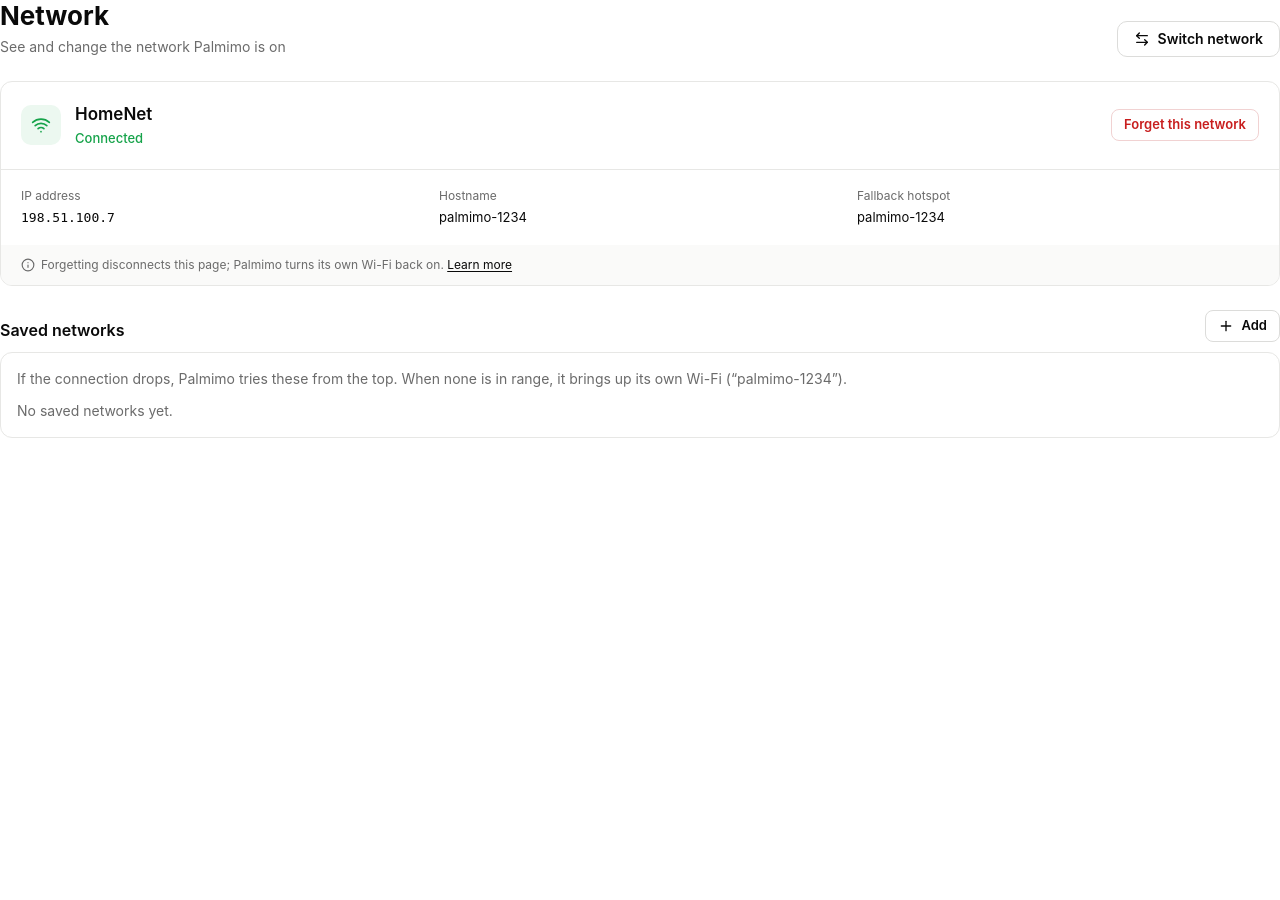
Test case: WifiSettingsPanel › issues no request when the forget dialog is cancelled
What coordinates should you click on to do the following:
click the button "Forget this network"
I would click on:
 (1185, 125)
Its box is [1111,109,1259,141].
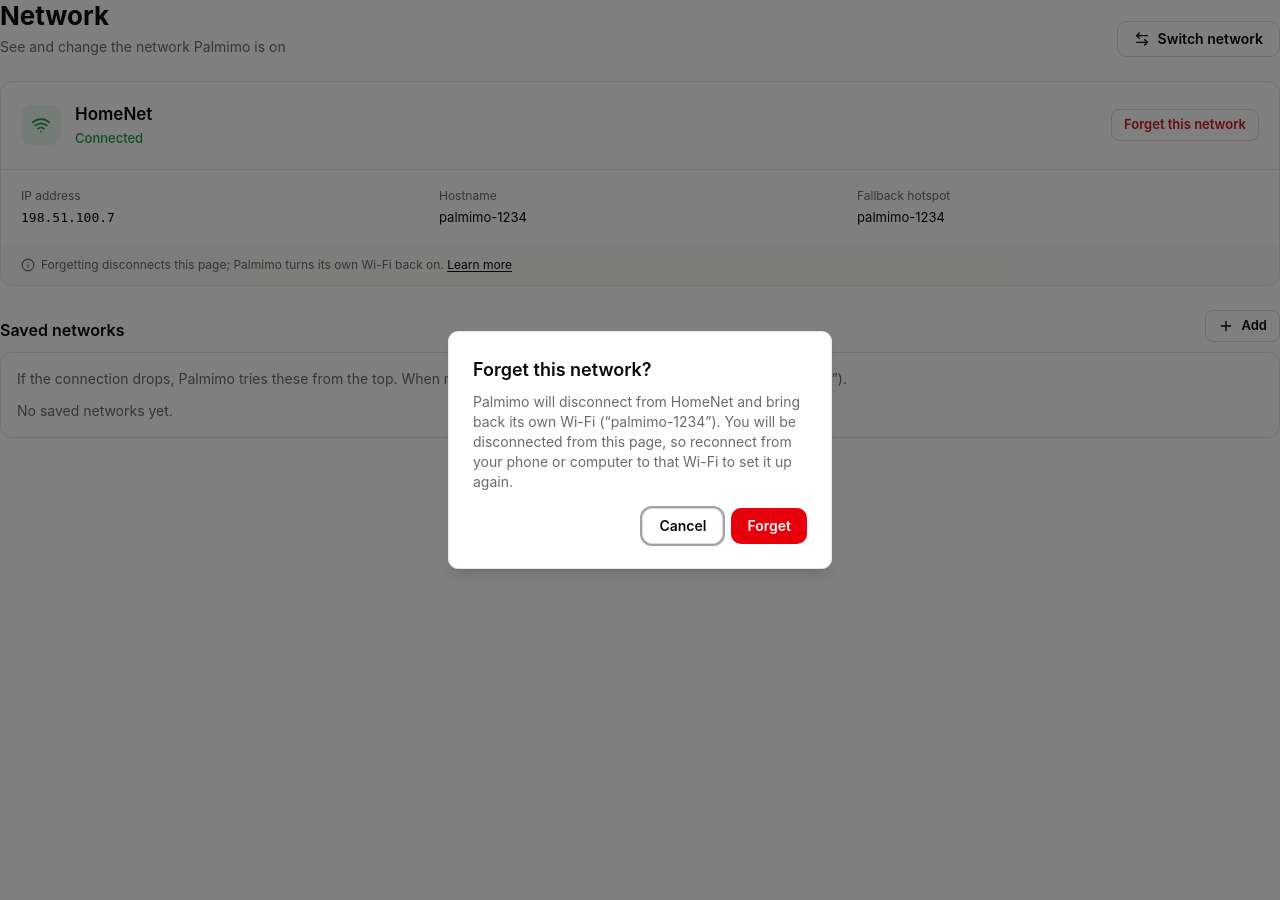
What coordinates should you click on to do the following:
click the button "Cancel"
I would click on:
 (683, 526)
Its box is [642,508,723,544].
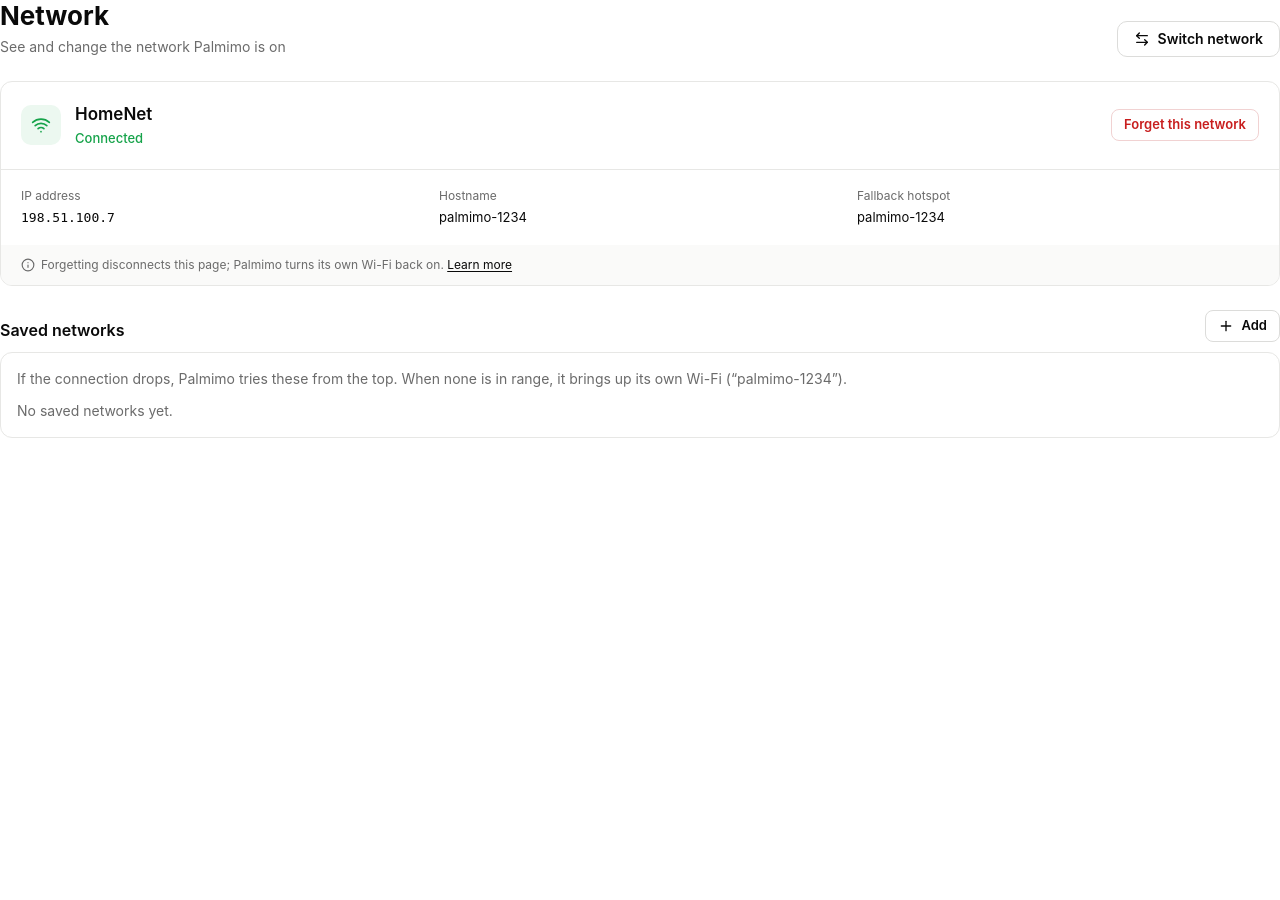
Expected: the dialog is gone
